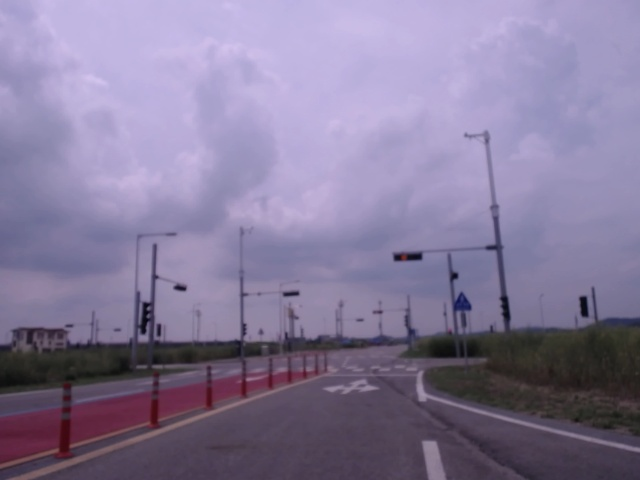orange_4: (391, 252, 425, 263), (372, 310, 386, 315)
